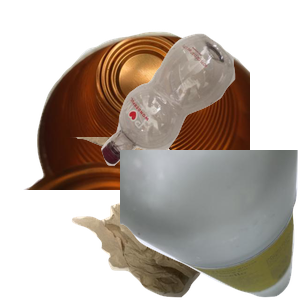glass: (120, 150, 300, 300)
metal: (21, 29, 261, 209)
plastic: (99, 31, 300, 189)
trash: (66, 137, 263, 300)
